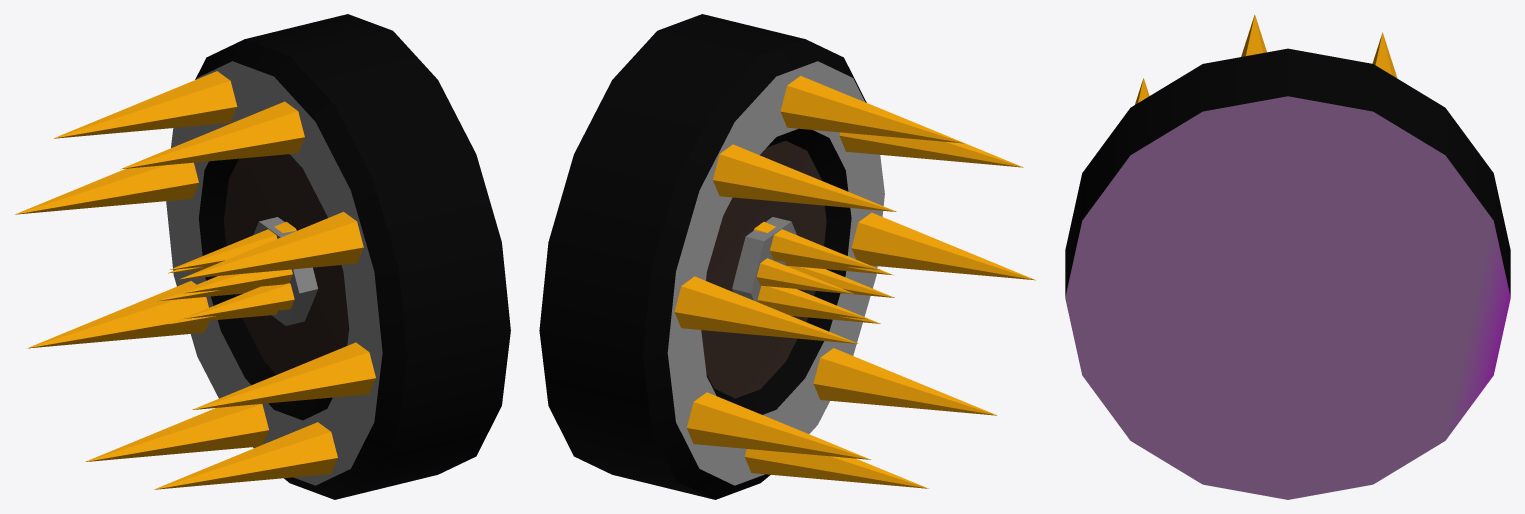
The model's file is RodasEspinhudas.fbx.
The picture shows the model from 3 angles, left to right: view 1: azimuth 30°, elevation 25°; view 2: azimuth 150°, elevation 25°; view 3: azimuth 270°, elevation 25°; orthographic projection. The views are drawn at different scales.
Visible parts, largest first — view 1: Interior.009; view 2: Interior.009; view 3: Interior.009.
Part boxes in pixels (box(x1,y1,x2,y2)): Interior.009: box(15, 14, 510, 499); Interior.009: box(539, 14, 1035, 499); Interior.009: box(1065, 14, 1510, 499).
Bounding box in the file's own units: 32.28 × 45.36 × 45.36.
1 material, 1 textured.
